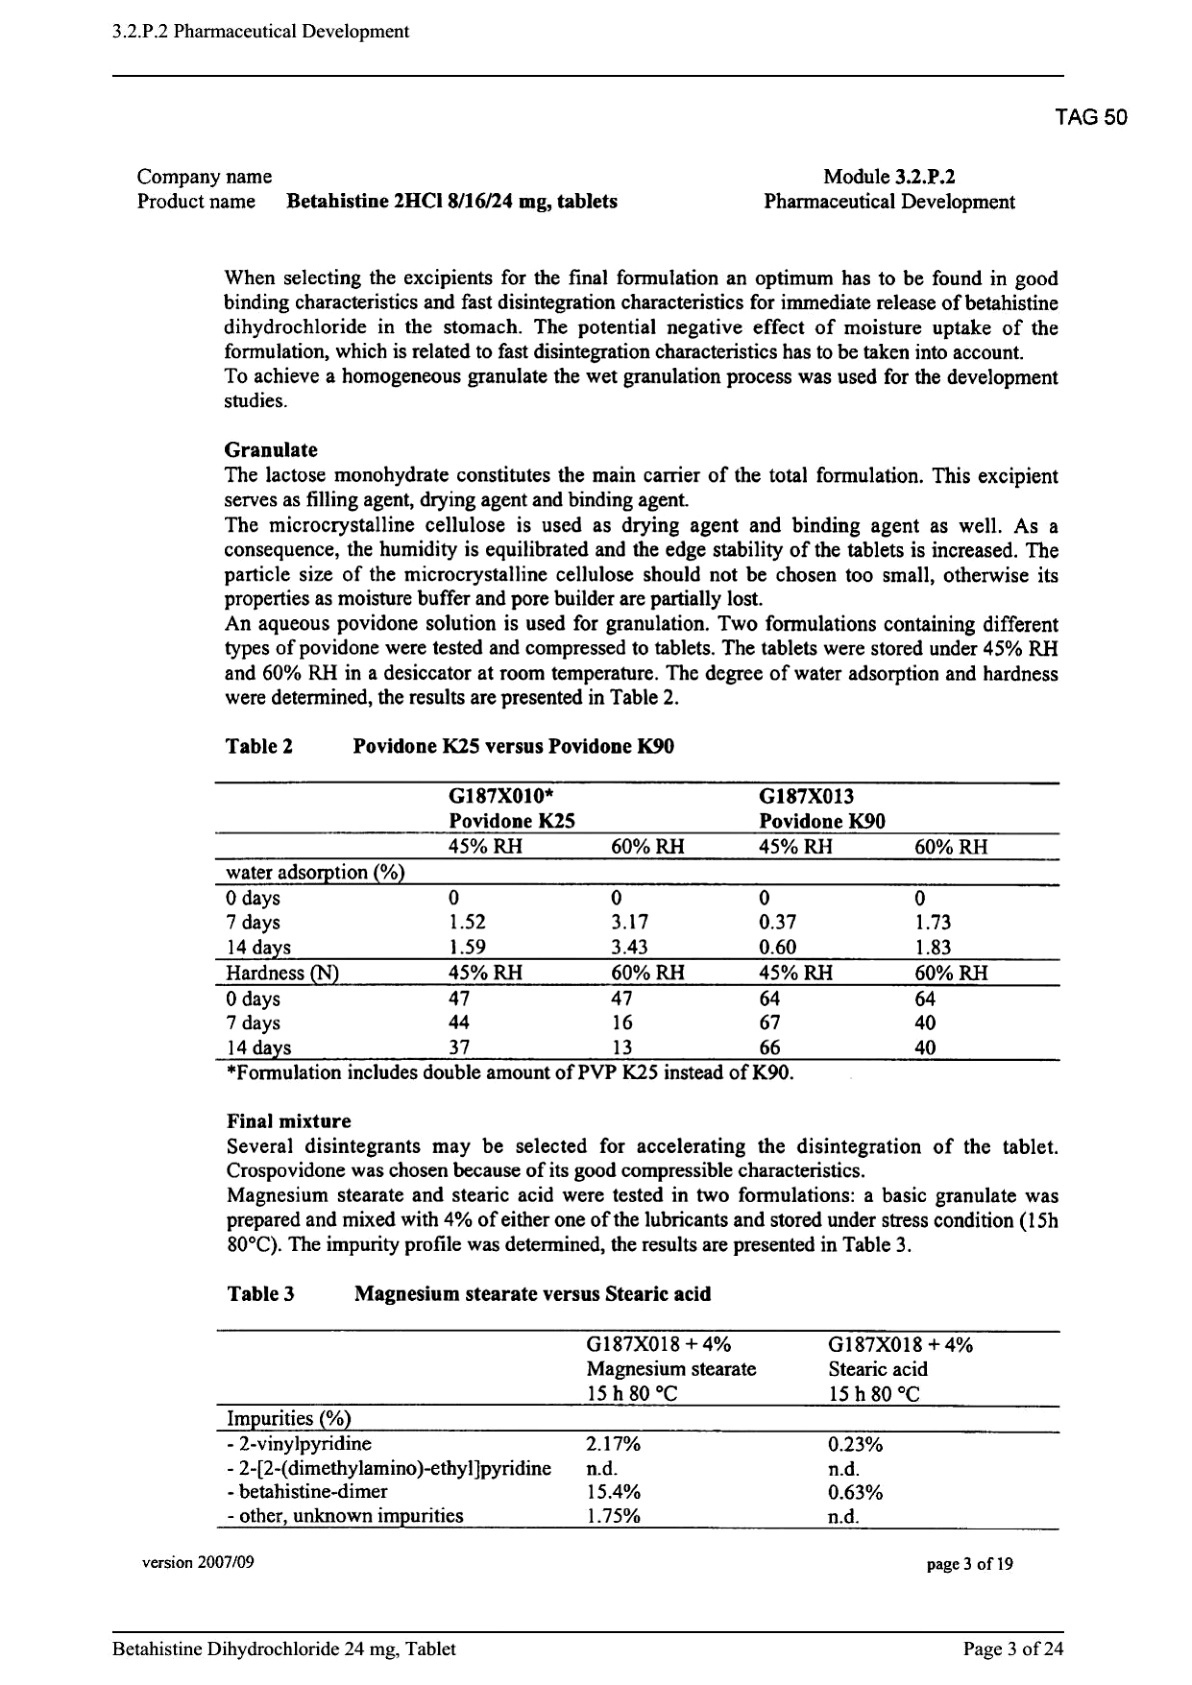partial_lined_merged_cells: (213, 781, 1062, 1062), (215, 1329, 1059, 1531)
